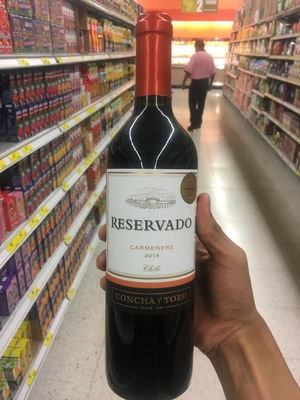reservado carmenere: (99, 11, 212, 389)
